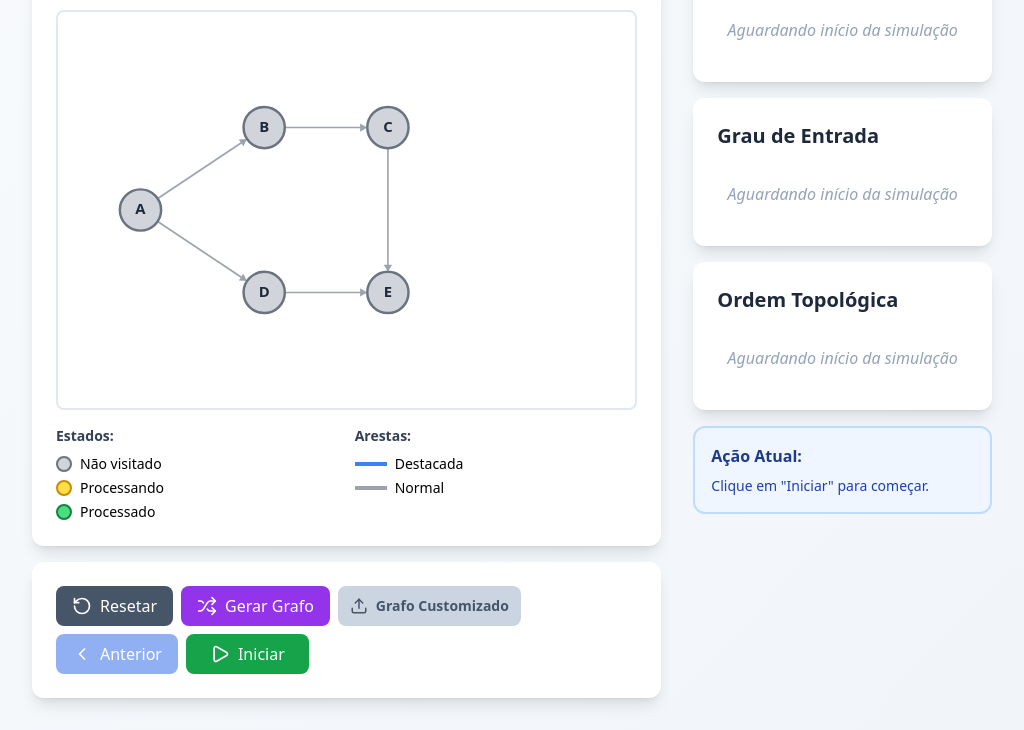
TopologicalSortSimulator Integration › should start simulation and show first step
The width and height of the screenshot is (1024, 730).
(page scrolled)
Click the button with test id "start-button".
click(247, 654)  # box [186, 634, 309, 674]
(page scrolled)
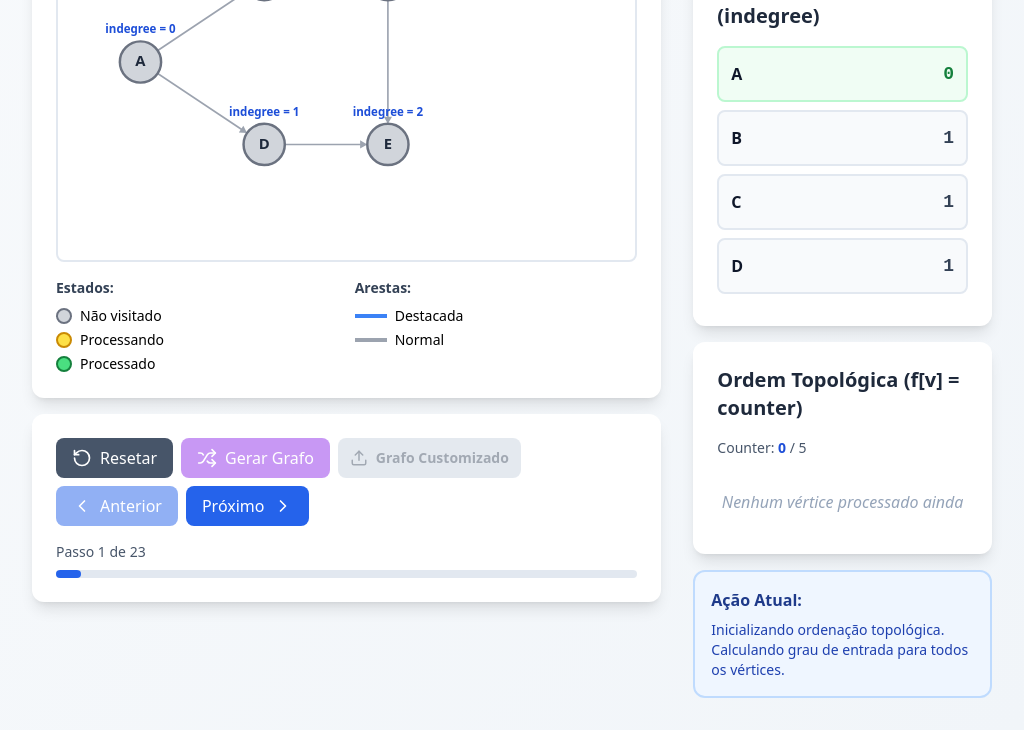
Expected: the element with test id "action-message-panel" is shown, [693, 570, 992, 698]
Now the text "Inicializando" is shown, box [711, 620, 968, 679]
